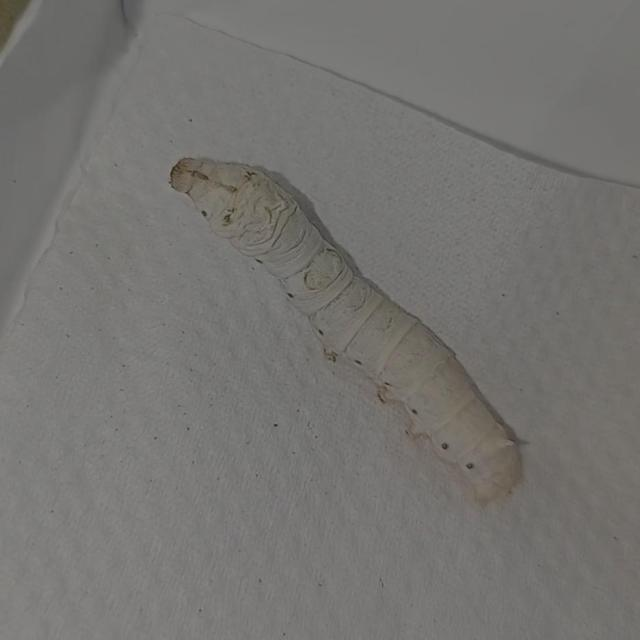Healthy: (142, 125, 554, 533)
